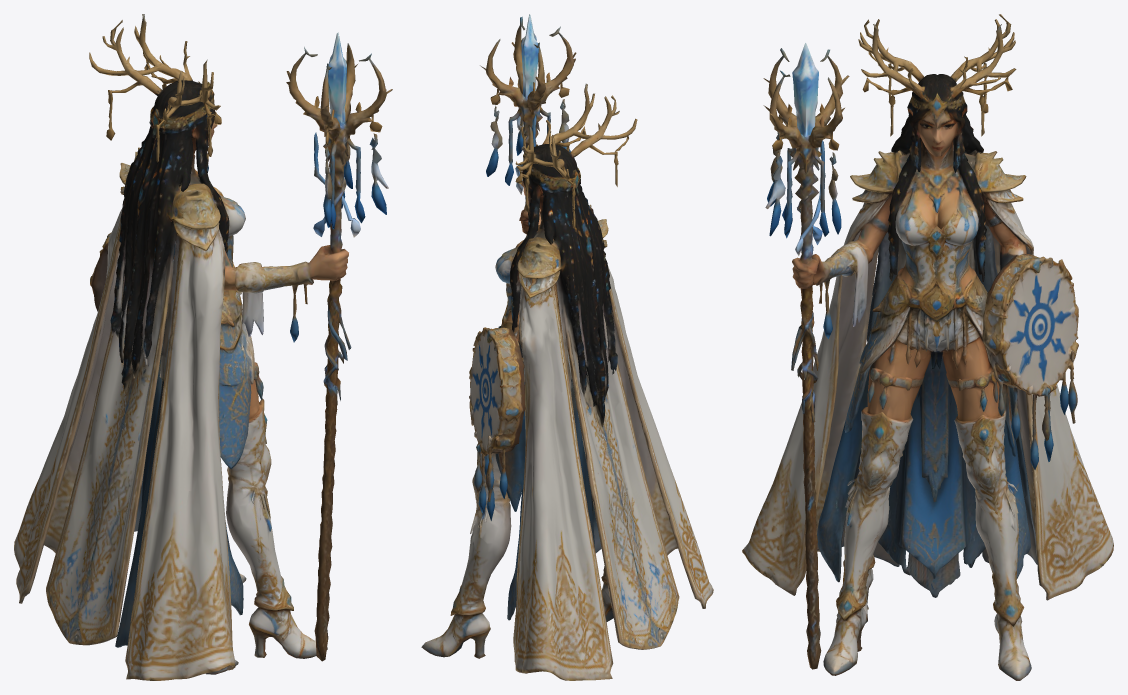
File: drumcaller2_T10-tripo.glb
3 renders of one model, left to right at view 1: azimuth 30°, elevation 25°; view 2: azimuth 150°, elevation 25°; view 3: azimuth 270°, elevation 25°, orthographic. The views are drawn at different scales.
Parts seen in each view (by area): view 1: tripo_node_12675a0f-9c8c-43fe-85bf-1e939d2d03eb; view 2: tripo_node_12675a0f-9c8c-43fe-85bf-1e939d2d03eb; view 3: tripo_node_12675a0f-9c8c-43fe-85bf-1e939d2d03eb.
Part boxes in pixels (bbox=[...]): tripo_node_12675a0f-9c8c-43fe-85bf-1e939d2d03eb: bbox=[14, 14, 392, 680]; tripo_node_12675a0f-9c8c-43fe-85bf-1e939d2d03eb: bbox=[421, 14, 713, 680]; tripo_node_12675a0f-9c8c-43fe-85bf-1e939d2d03eb: bbox=[742, 14, 1113, 680].
Size of the model in its own units: 0.4082 by 1 by 0.5316.
Materials: 1 (1 with a texture image).
